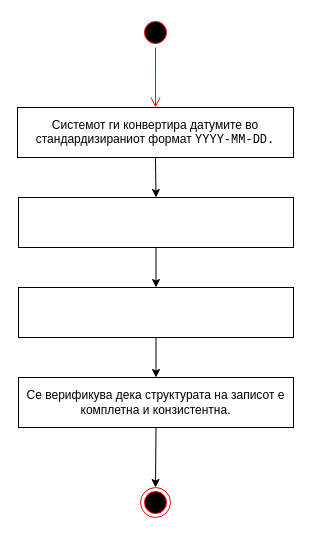
Image size: 311x535. Some labels were removed from this diagram. The centre of each missing label's shape, as x and y in pixels:
"Грешните вредности (NaN, None) се бришат или заменуваат." belongs at (x=156, y=312).
"Сите бројчани вредности се претвораат во валидни типови (float/int)." belongs at (x=156, y=222).
